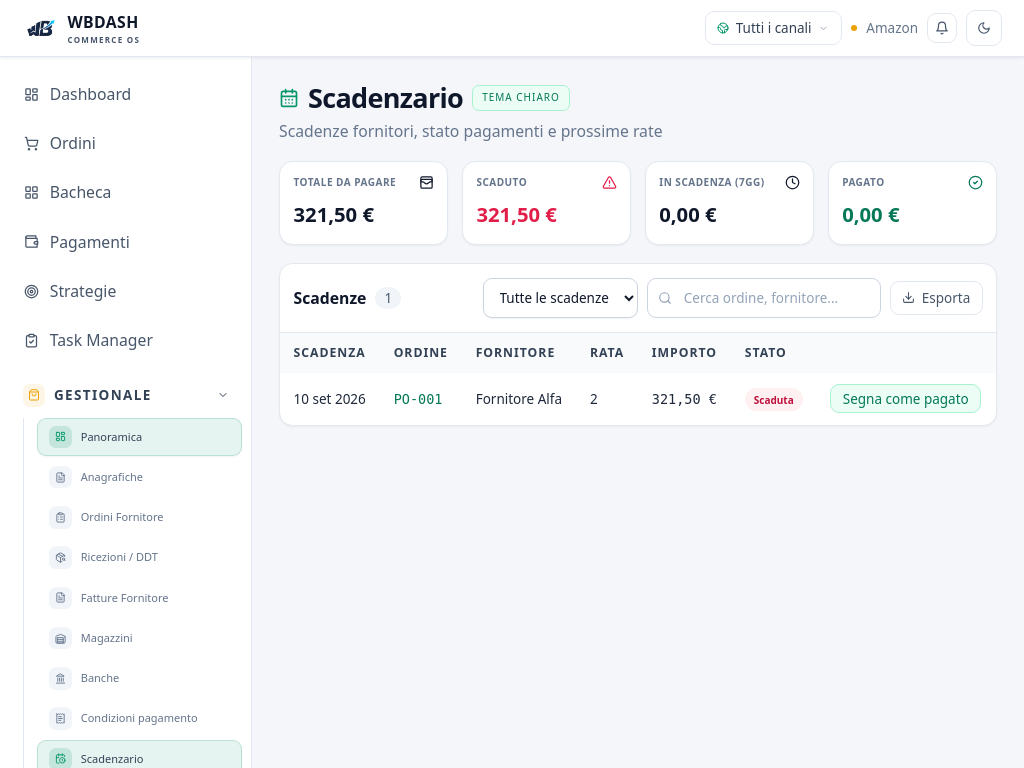
it: ScadenzarioPage › opens a detail panel with the full row info when a row is clicked
Click the text "Fornitore Alfa".
click(519, 399)  # box [462,373,576,424]
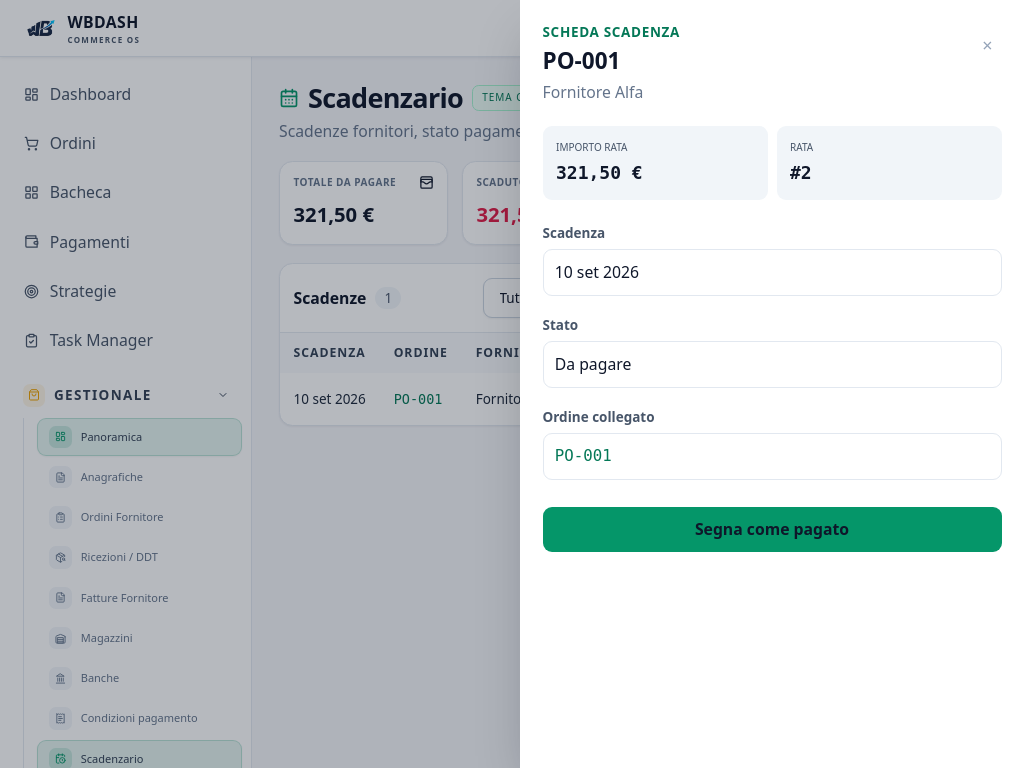
Expected: the link "PO-001" in the row of "Scaduta" is shown, [394,391,442,407]
Now the text "Scheda scadenza" is shown, box [542,22,680,40]
Now the text "#2" is shown, box [790,162,812,183]
